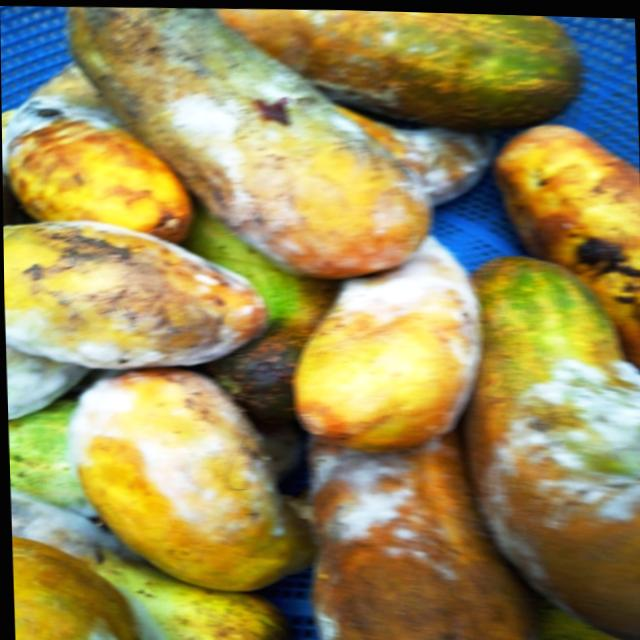Pythium-Fruit-Rot: (112, 7, 435, 281), (2, 212, 263, 376), (478, 350, 640, 605), (59, 362, 282, 542), (331, 224, 484, 437), (300, 433, 438, 570), (1, 90, 115, 177), (386, 120, 487, 204), (9, 485, 107, 549), (4, 342, 78, 424), (115, 594, 169, 640)
